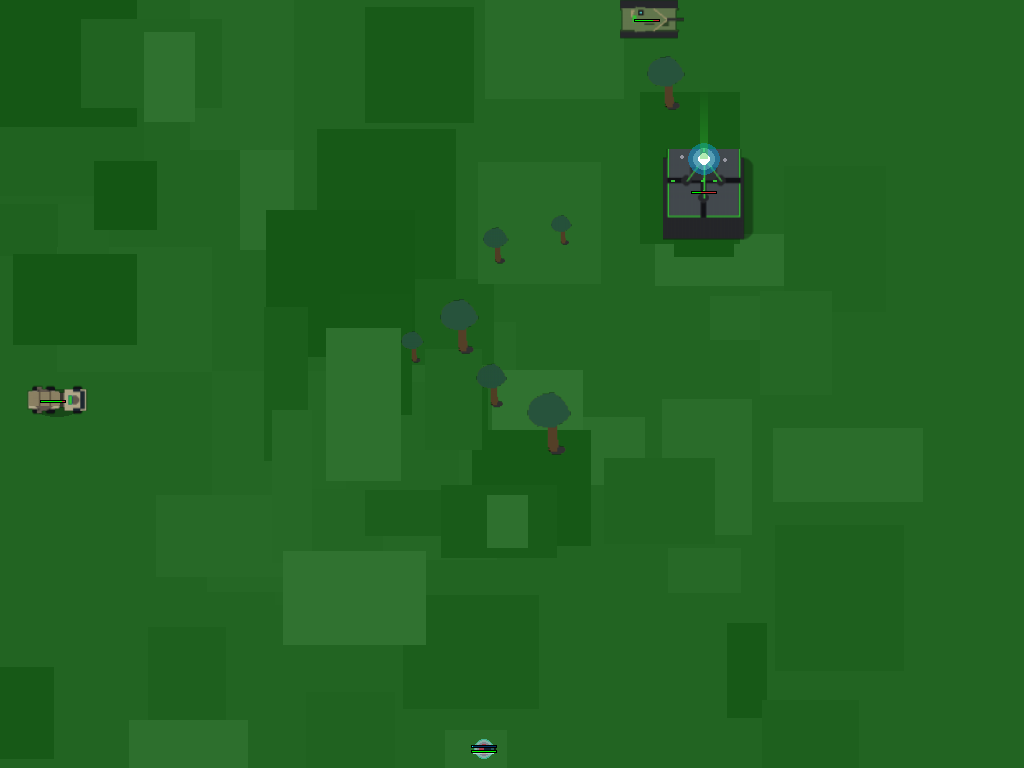HIMARS: (25, 371, 81, 427)
M1A2_chn: (616, 0, 678, 62)
ResearchCenter: (658, 144, 750, 236)
Shotgunner: (467, 732, 500, 765)
